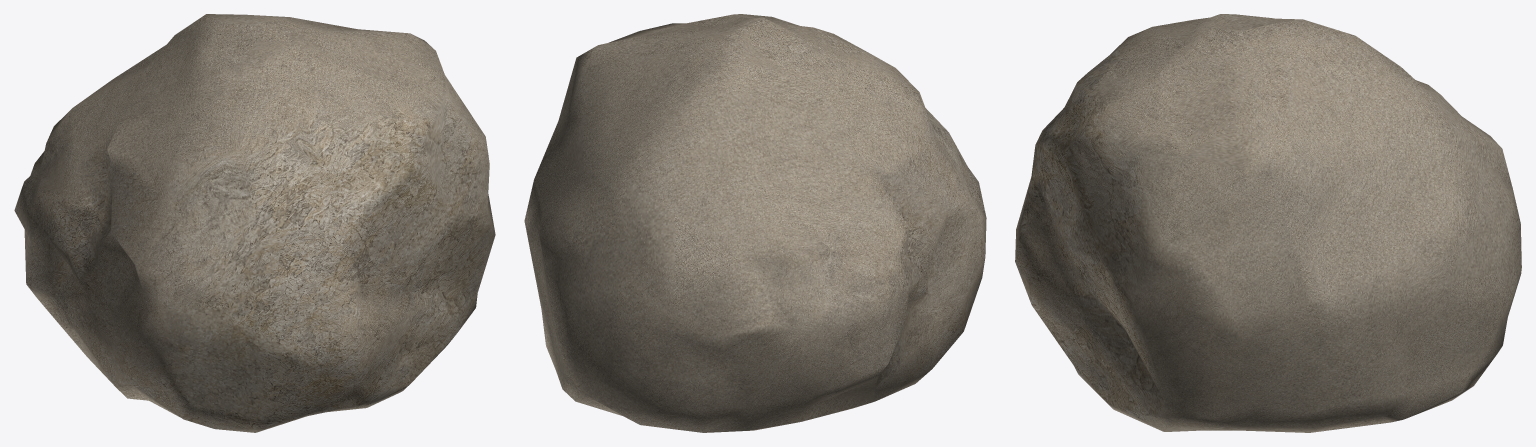
3 renders of one model, left to right at view 1: azimuth 30°, elevation 25°; view 2: azimuth 150°, elevation 25°; view 3: azimuth 270°, elevation 25°, orthographic. The views are drawn at different scales.
Bounding box in the file's own units: 0.8994 × 0.7368 × 0.9536.
1 material, 1 textured.
